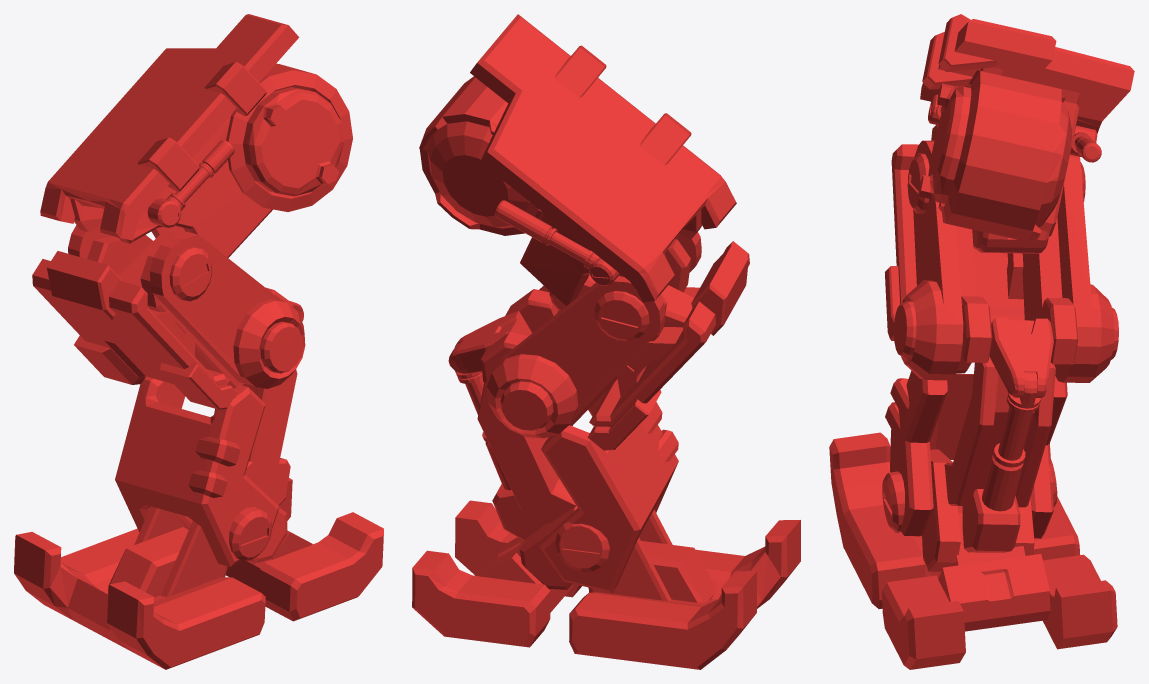
File: right_leg.dae
3 views of the same model, side by side, from view 1: azimuth 30°, elevation 25°; view 2: azimuth 150°, elevation 25°; view 3: azimuth 270°, elevation 25° (orthographic). The views are drawn at different scales.
Parts seen in each view (by area): view 1: tmp_export_left_leg.003; view 2: tmp_export_left_leg.003; view 3: tmp_export_left_leg.003.
Part boxes in pixels (<box>): tmp_export_left_leg.003: <box>14,14,383,669</box>; tmp_export_left_leg.003: <box>412,14,800,669</box>; tmp_export_left_leg.003: <box>829,14,1134,669</box>.
Bounding box in the file's own units: 0.1275 × 0.0959 × 0.2168.
